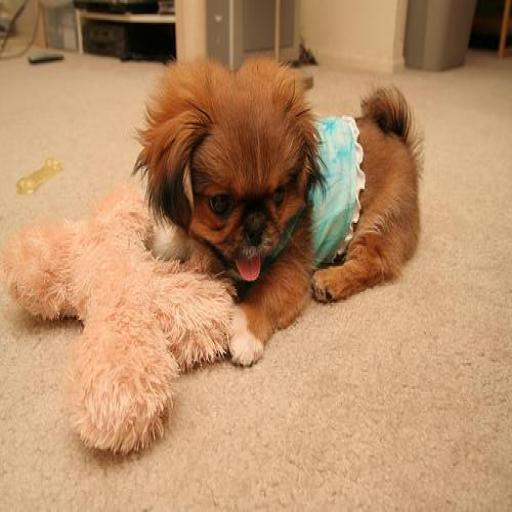dog_face: (154, 60, 309, 278)
